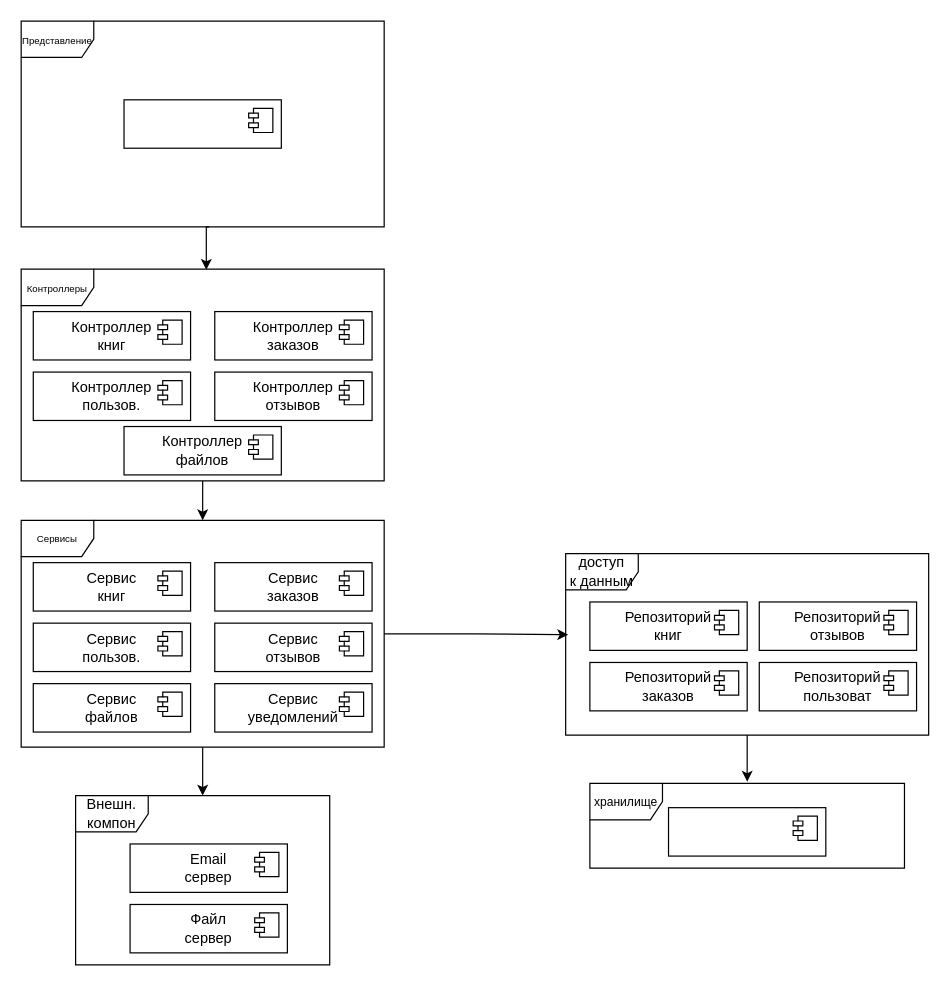
Image size: 950x986. Some labels were removed from this diagram. The shapes that lost their labels are listed below. From the top down, each one's centre as x and y in pixels, then its label:
At point (202, 123): "Веб интерфейс".
At point (746, 831): "Б аза данных".
